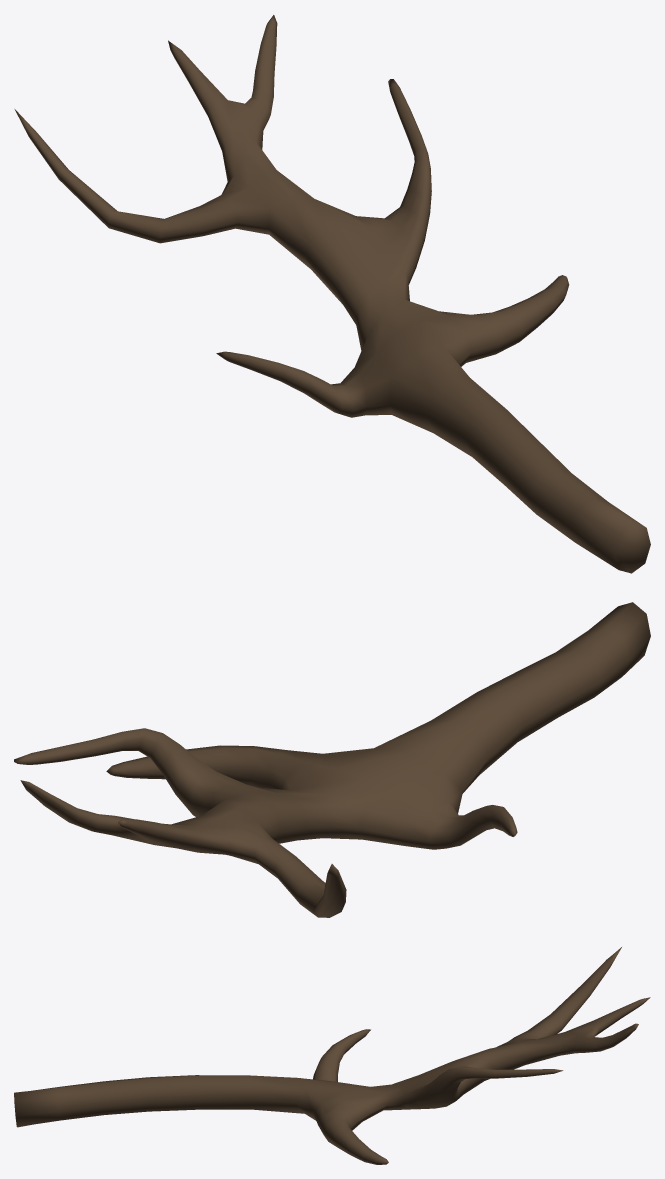
Rendered from Tree_Branches.fbx.
3 views of the same model, one above another, from view 1: azimuth 30°, elevation 25°; view 2: azimuth 150°, elevation 25°; view 3: azimuth 270°, elevation 25° (orthographic). The views are drawn at different scales.
Parts seen in each view (by area): view 1: Tree_Branch_1; view 2: Tree_Branch_1; view 3: Tree_Branch_1.
Boxes of the visible parts, <box> form: Tree_Branch_1: <box>14,15,650,573</box>; Tree_Branch_1: <box>14,602,650,917</box>; Tree_Branch_1: <box>14,947,650,1164</box>.
Size of the model in its own units: 45.62 by 23.11 by 97.72.
